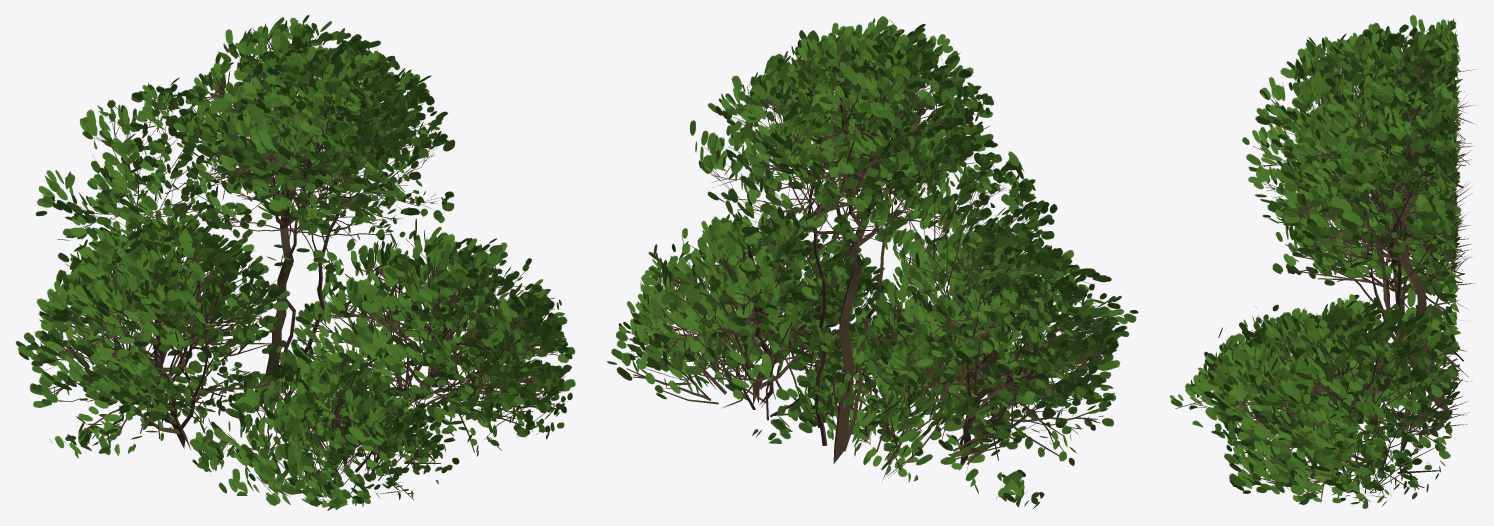
The picture shows the model from 3 angles, left to right: view 1: azimuth 30°, elevation 25°; view 2: azimuth 150°, elevation 25°; view 3: azimuth 270°, elevation 25°; orthographic projection. The views are drawn at different scales.
Visible parts, largest first — view 1: oak 01.001_trunk_Mat.001_0.439; view 2: oak 01.001_trunk_Mat.001_0.439; view 3: oak 01.001_trunk_Mat.001_0.439.
Boxes of the visible parts, x1,y1,x2,y2 form: oak 01.001_trunk_Mat.001_0.439: (16, 15, 575, 510); oak 01.001_trunk_Mat.001_0.439: (607, 16, 1138, 509); oak 01.001_trunk_Mat.001_0.439: (1169, 14, 1475, 508).
Size of the model in its own units: 6.33 by 5.12 by 3.62.
Materials: 2 (1 with a texture image).
